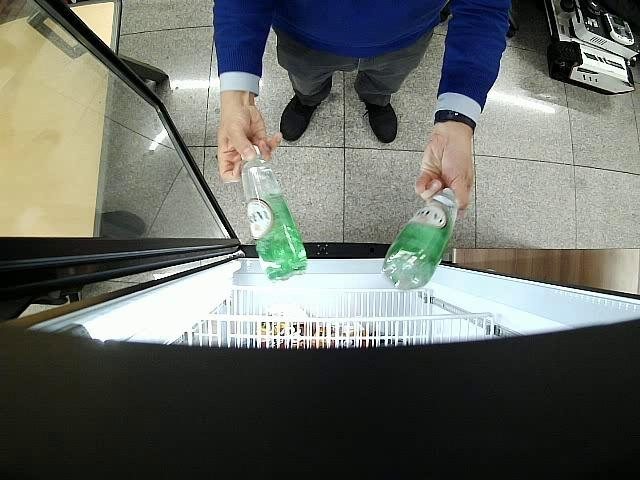18_trevi: (240, 146, 308, 282), (381, 188, 457, 288)
